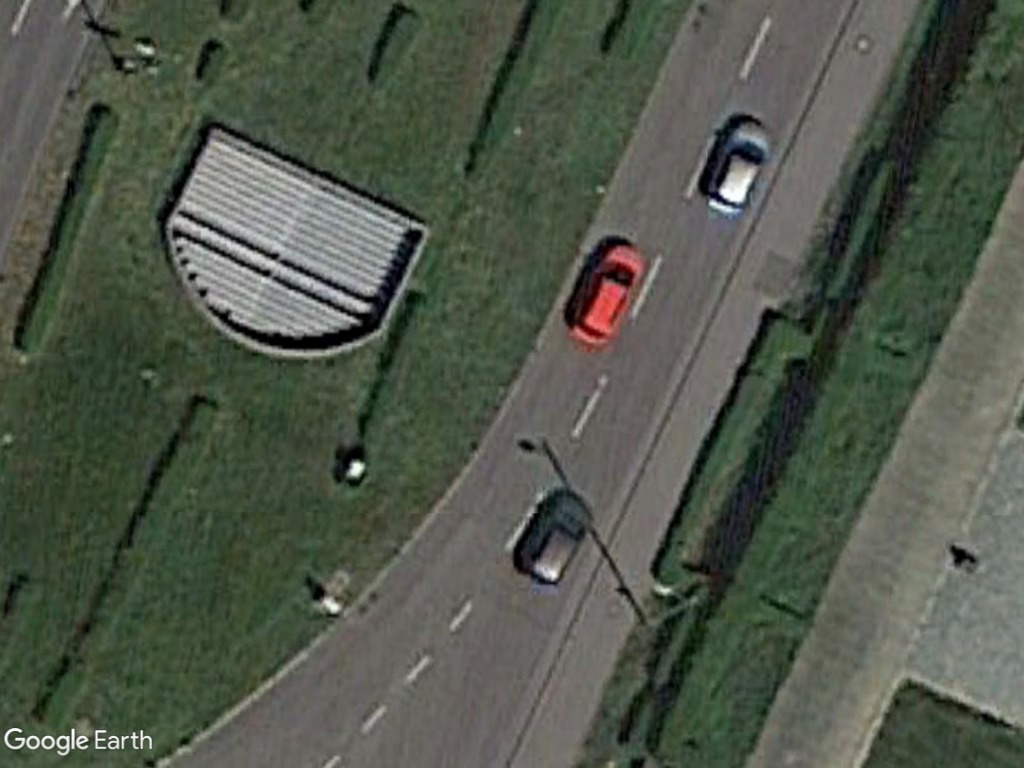car: (562, 240, 647, 353), (511, 491, 593, 590), (696, 116, 772, 222)
